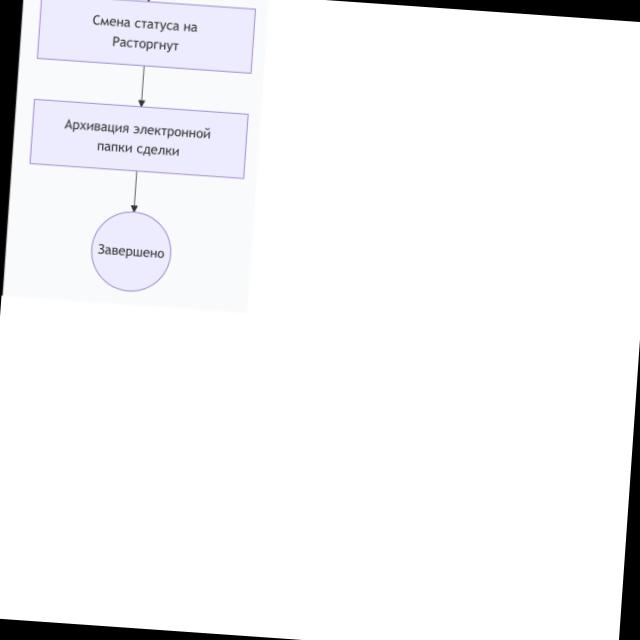arrow: (139, 67, 145, 106), (131, 172, 137, 211)
circle: (76, 196, 188, 307)
rectangle: (29, 100, 248, 179), (36, 0, 256, 75)
